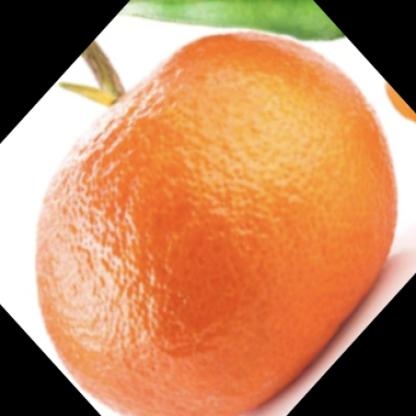fresh: (38, 31, 398, 416)
